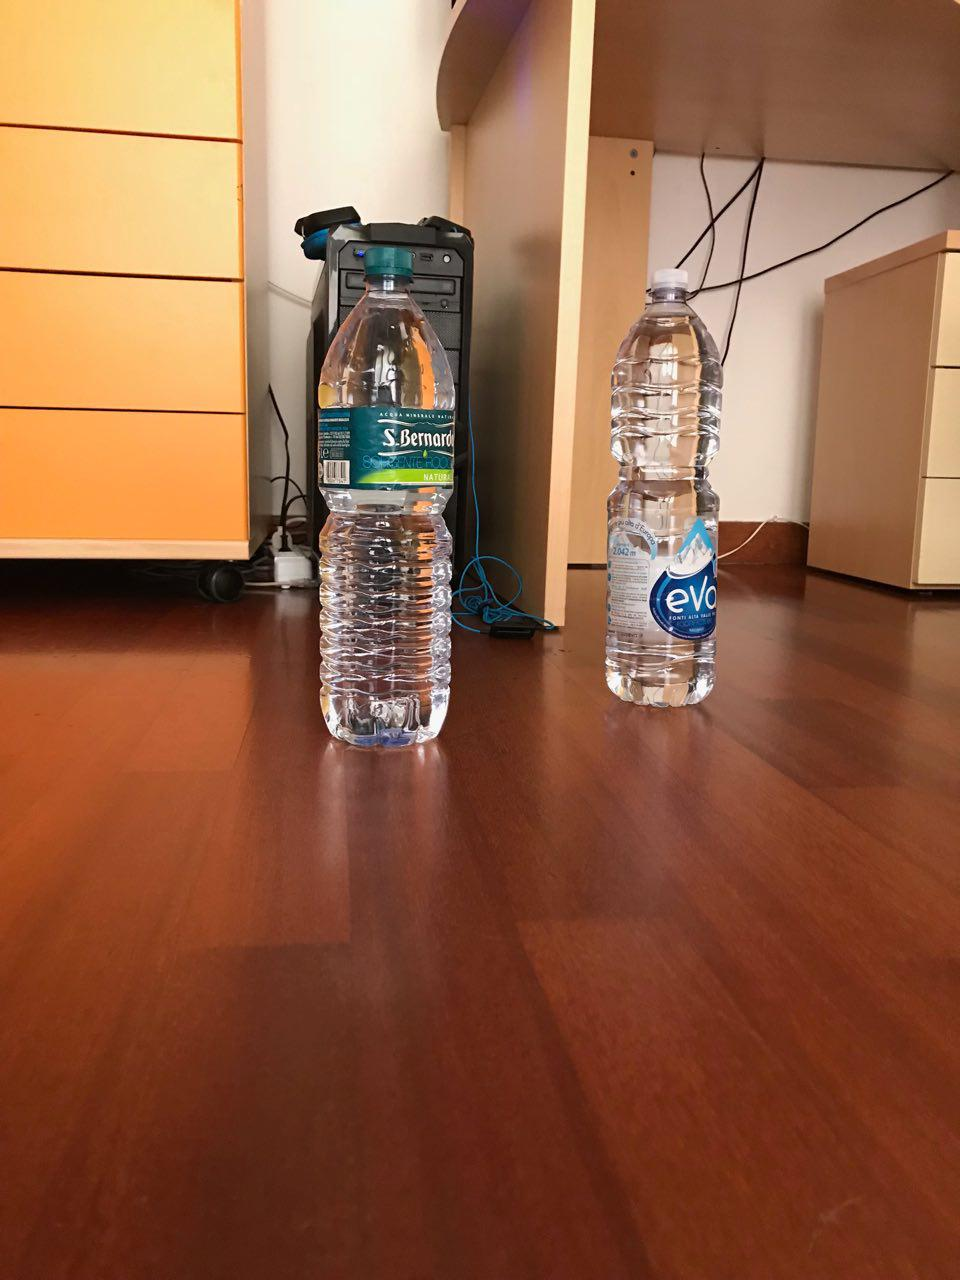san_bernardo: (316, 246, 457, 747)
